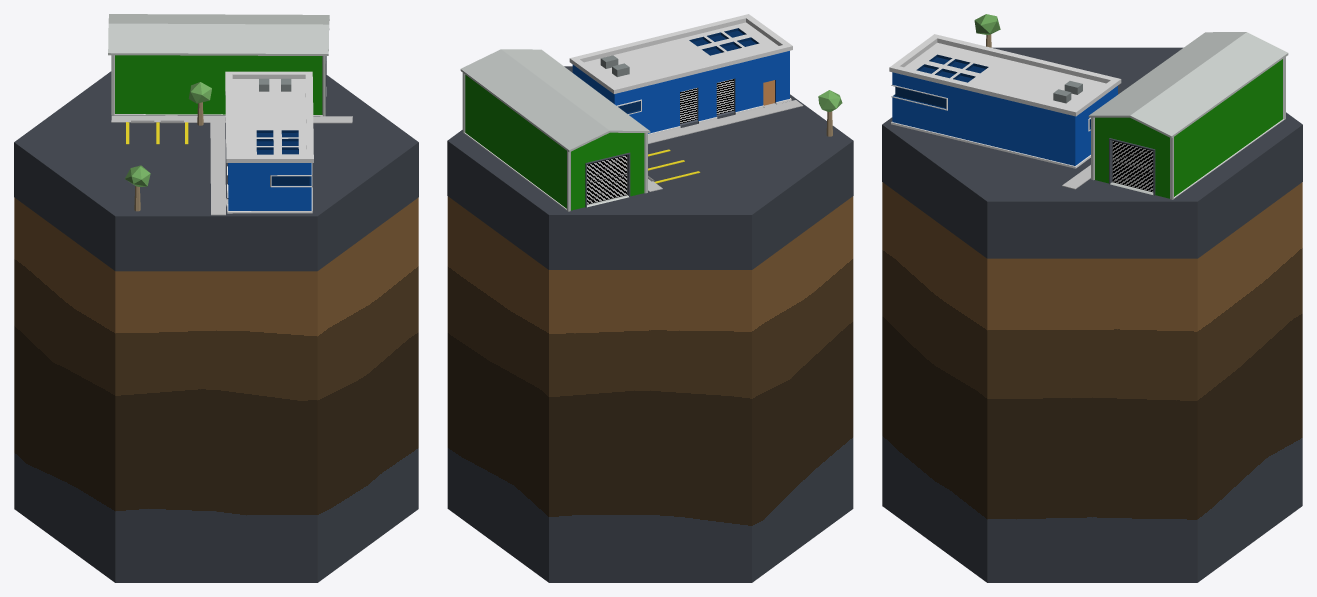
File: HexTileHomeBase_1.glb
3 renders of one model, left to right at view 1: azimuth 30°, elevation 25°; view 2: azimuth 150°, elevation 25°; view 3: azimuth 270°, elevation 25°, orthographic. The views are drawn at different scales.
Parts seen in each view (by area): view 1: HomeBase_1; view 2: HomeBase_1; view 3: HomeBase_1.
Boxes of the visible parts, x1,y1,x2,y2 form: HomeBase_1: [14, 14, 418, 582]; HomeBase_1: [447, 14, 853, 582]; HomeBase_1: [882, 14, 1302, 582].
Bounding box in the file's own units: 3.46 × 4.79 × 4.
Materials: 1 (1 with a texture image).
